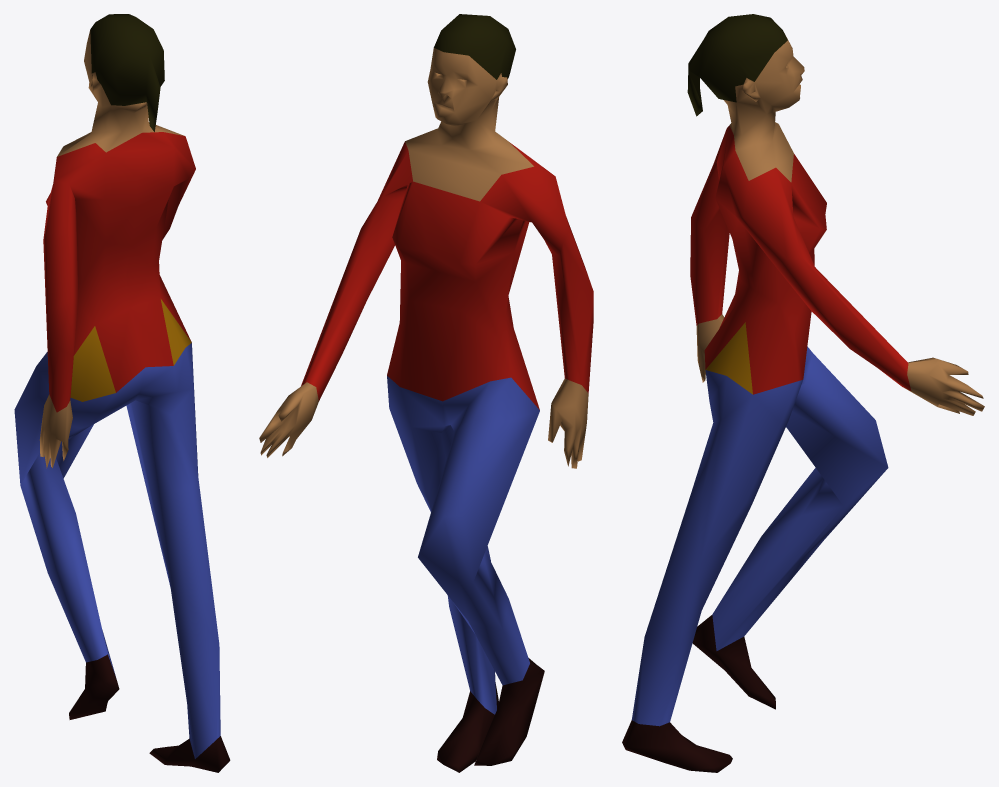
Rendered from personlowpoly_000008.obj.
3 renders of one model, left to right at view 1: azimuth 30°, elevation 25°; view 2: azimuth 150°, elevation 25°; view 3: azimuth 270°, elevation 25°, orthographic. The views are drawn at different scales.
Visible parts, largest first — view 1: Cube; view 2: Cube; view 3: Cube.
Boxes of the visible parts, x1,y1,x2,y2 form: Cube: [14, 14, 230, 772]; Cube: [259, 14, 593, 772]; Cube: [622, 14, 984, 772].
Bounding box in the file's own units: 24.66 × 93.48 × 41.99.
